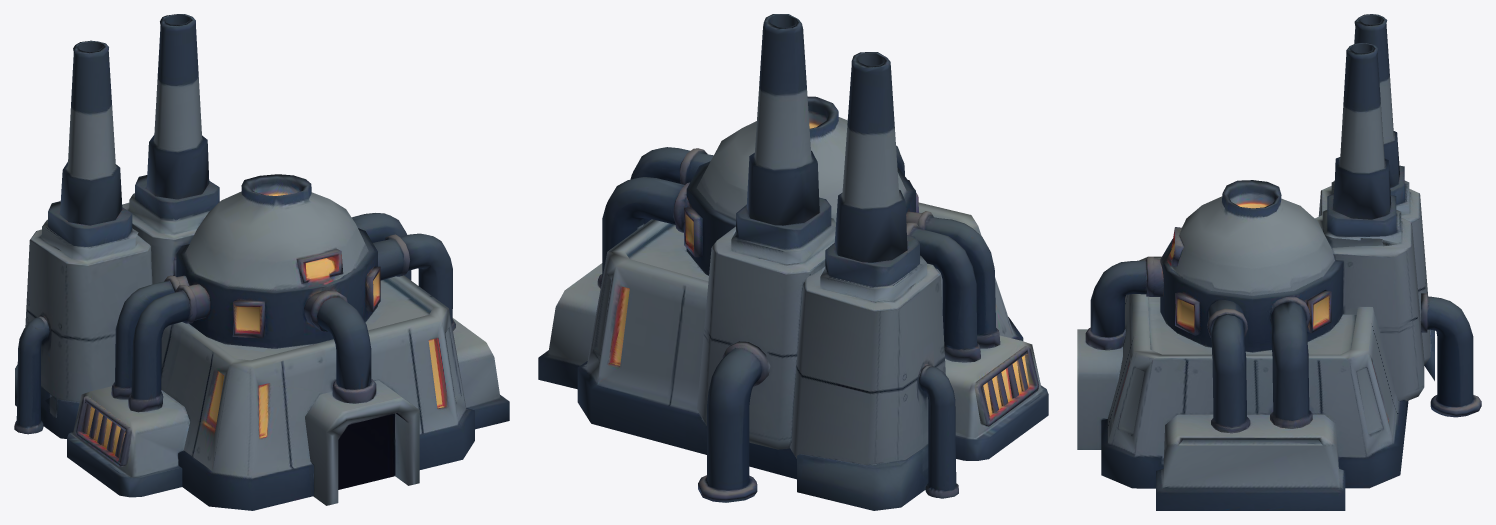
File: 019ead7c-d90f-7147-afc5-9043f3f600e7.glb
3 views of the same model, side by side, from view 1: azimuth 30°, elevation 25°; view 2: azimuth 150°, elevation 25°; view 3: azimuth 270°, elevation 25° (orthographic). The views are drawn at different scales.
Parts seen in each view (by area): view 1: tripo_node_aaa35561-a3d4-40ae-9366-baafc751bbd9; view 2: tripo_node_aaa35561-a3d4-40ae-9366-baafc751bbd9; view 3: tripo_node_aaa35561-a3d4-40ae-9366-baafc751bbd9.
Boxes of the visible parts, x1,y1,x2,y2 form: tripo_node_aaa35561-a3d4-40ae-9366-baafc751bbd9: (14, 14, 509, 510); tripo_node_aaa35561-a3d4-40ae-9366-baafc751bbd9: (538, 14, 1048, 510); tripo_node_aaa35561-a3d4-40ae-9366-baafc751bbd9: (1077, 14, 1481, 510).
Bounding box in the file's own units: 0.998 × 0.9434 × 0.9629.
1 material, 1 textured.
